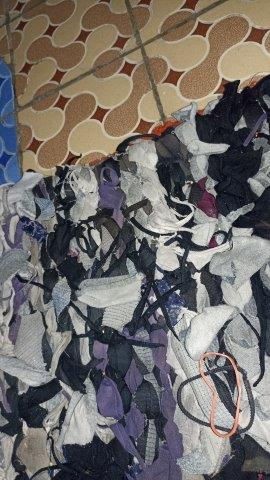karet: (177, 351, 256, 438)
